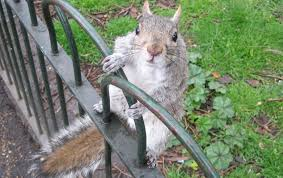squirrel: (102, 1, 190, 165)
